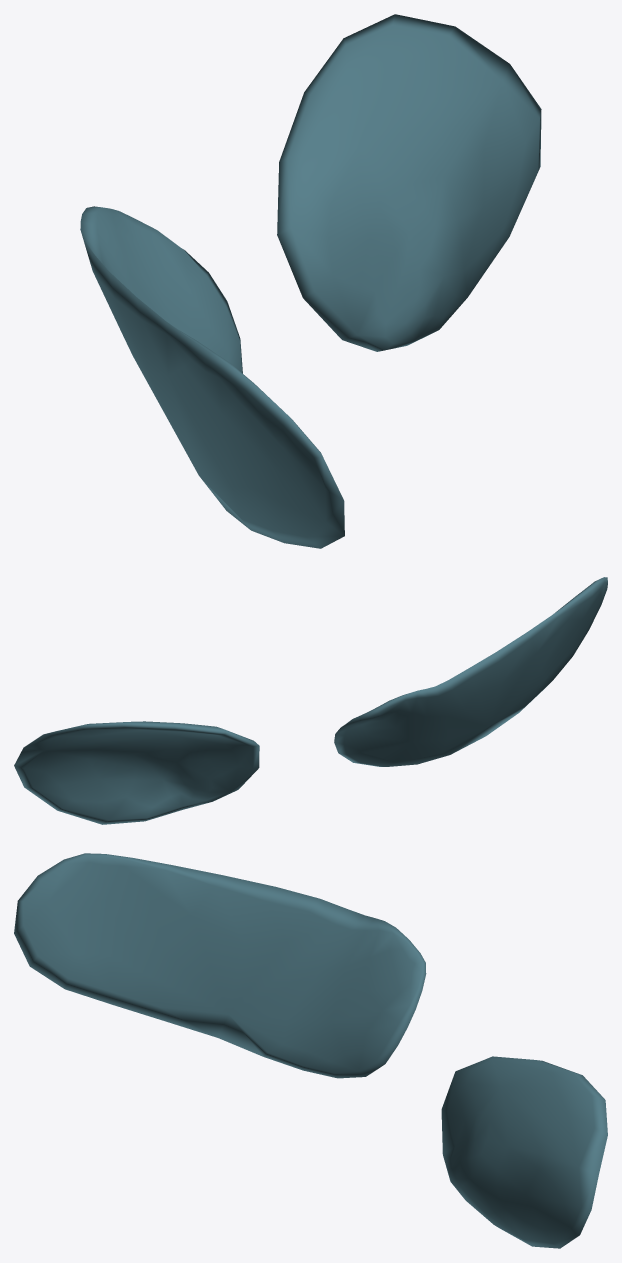
File: Semimembranosus_on_posterior_surf._of_med._condyle.l_Generated_.glb
The picture shows the model from 3 angles, top to bottom: view 1: azimuth 30°, elevation 25°; view 2: azimuth 150°, elevation 25°; view 3: azimuth 270°, elevation 25°; orthographic projection. The views are drawn at different scales.
Visible parts, largest first — view 1: Semimembranosus_on_posterior_surf._of_med._condyle.l_Generat; view 2: Semimembranosus_on_posterior_surf._of_med._condyle.l_Generat; view 3: Semimembranosus_on_posterior_surf._of_med._condyle.l_Generat.
Boxes of the visible parts, x1=… form: Semimembranosus_on_posterior_surf._of_med._condyle.l_Generat: x1=80, y1=14, x2=541, y2=548; Semimembranosus_on_posterior_surf._of_med._condyle.l_Generat: x1=14, y1=577, x2=607, y2=824; Semimembranosus_on_posterior_surf._of_med._condyle.l_Generat: x1=14, y1=853, x2=607, y2=1248.
Size of the model in its own units: 0.0227 by 0.0106 by 0.0264.
